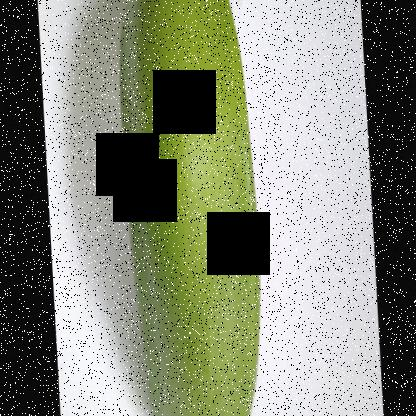freshunripe: (112, 0, 276, 415)
